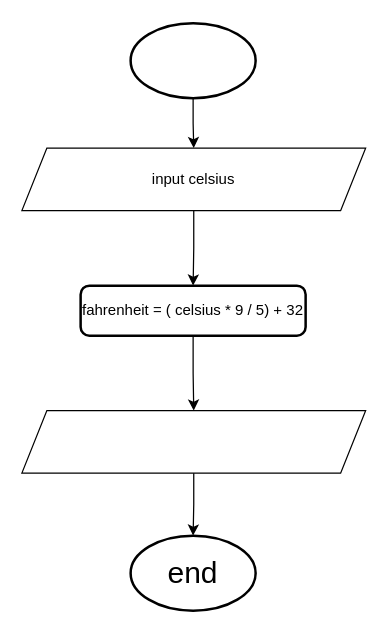
Some shapes in this 388 by 633 pixel diagram are drawn without their labels. The centre of each missing label's shape, as x and y in pixels:
output celsius, "degree celsius =", fahrenheit: the point at 193,441
start: the point at 192,60
